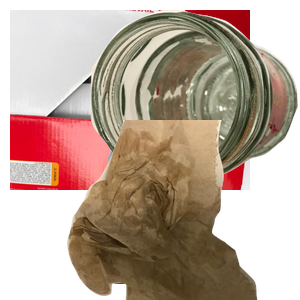cardboard: (10, 10, 250, 190)
glass: (90, 10, 300, 184)
plastic: (96, 120, 285, 300)
trash: (65, 120, 300, 300)
